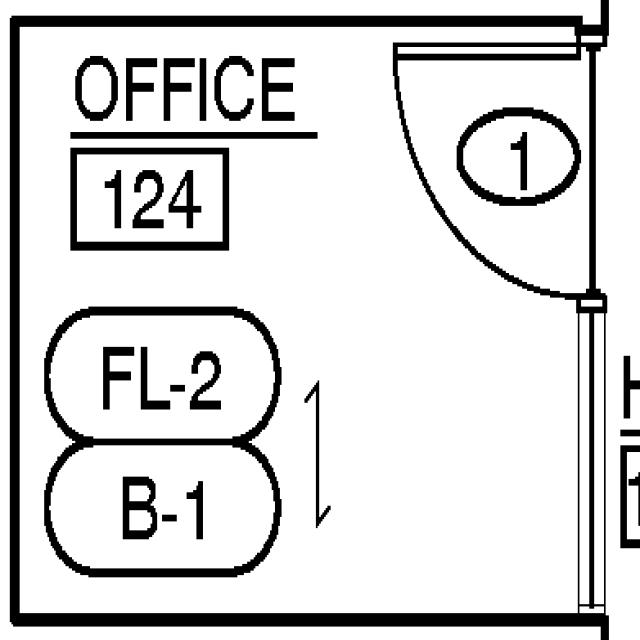Doors: (385, 36, 604, 310)
